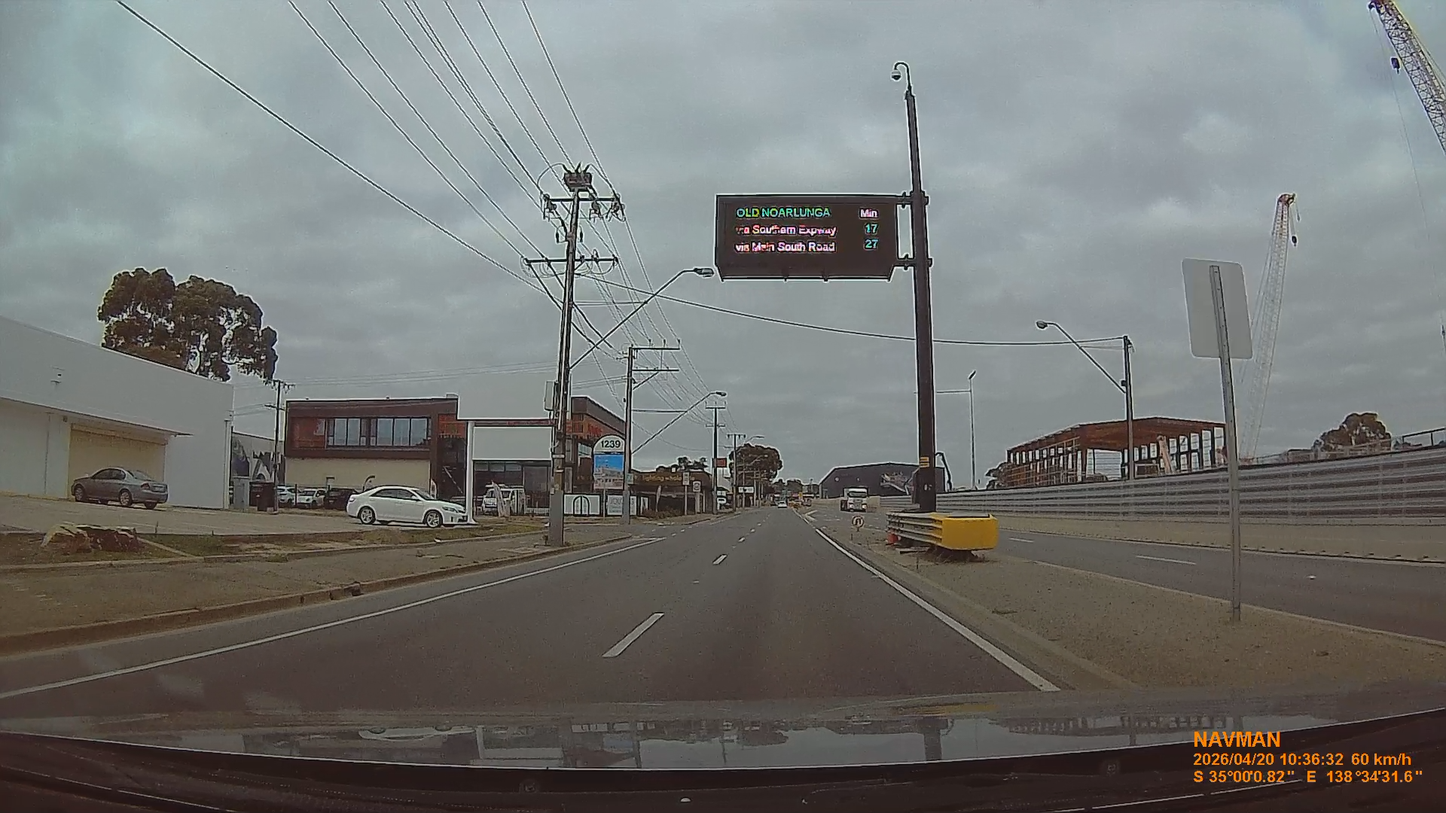road barriers: (925, 450, 1442, 531), (887, 515, 991, 559)
